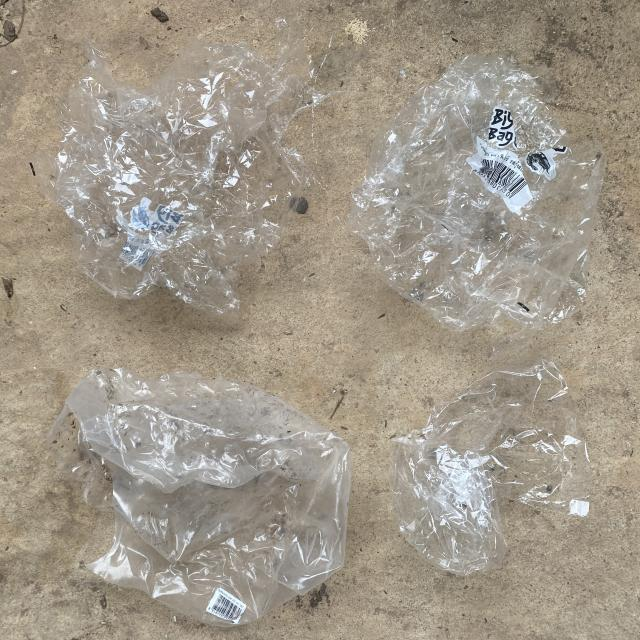Single-layer Plastic: (30, 11, 325, 319), (48, 368, 351, 626), (348, 56, 605, 334), (390, 359, 589, 575)
